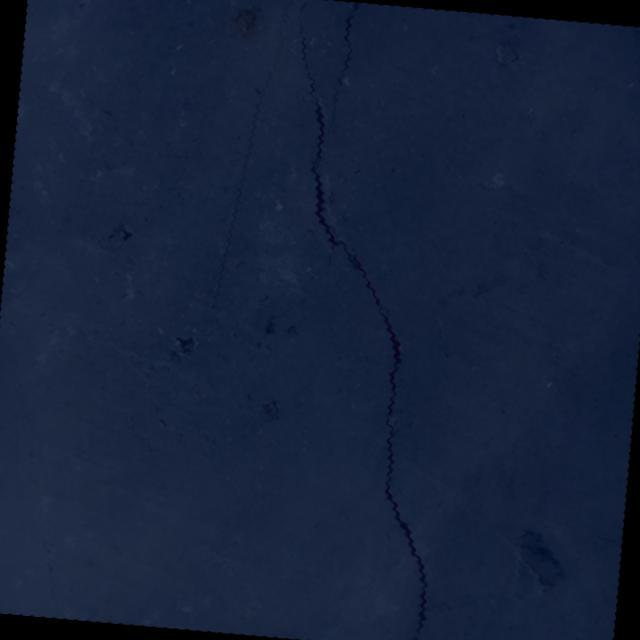crack: (244, 0, 537, 640), (330, 0, 360, 136), (588, 534, 622, 548)
